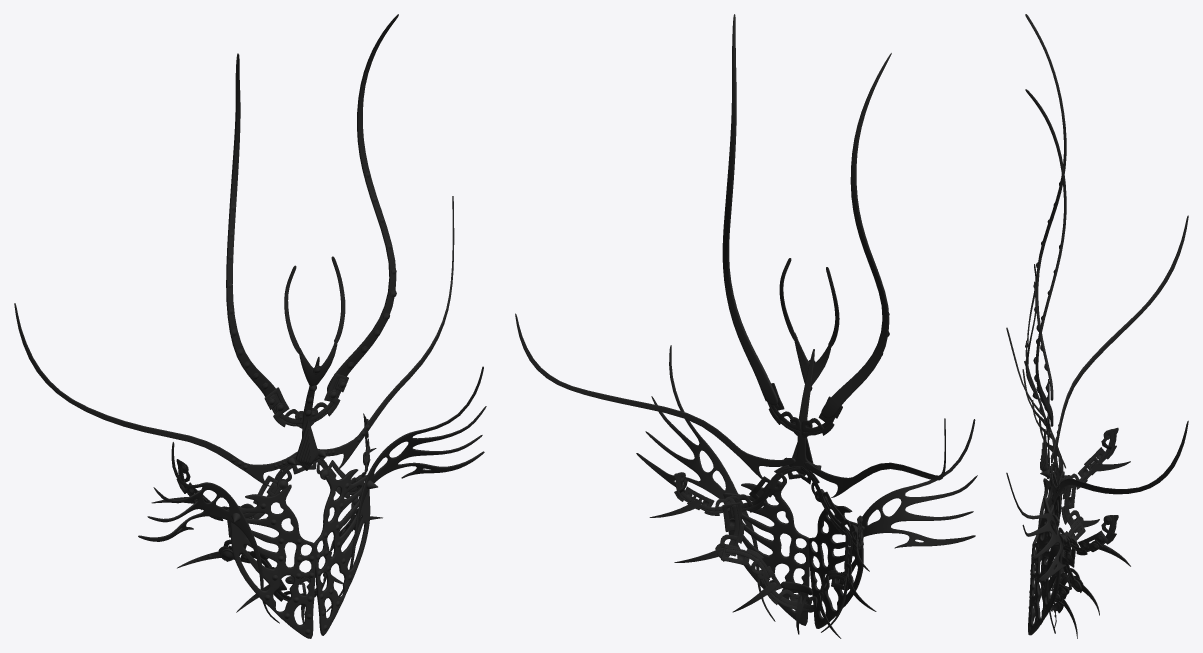
3 views of the same model, side by side, from view 1: azimuth 30°, elevation 25°; view 2: azimuth 150°, elevation 25°; view 3: azimuth 270°, elevation 25° (orthographic). The views are drawn at different scales.
Visible parts, largest first — view 1: Fates_mask_01_low; view 2: Fates_mask_01_low; view 3: Fates_mask_01_low.
Part boxes in pixels (x1,y1,x2,y2): Fates_mask_01_low: [14, 14, 486, 638]; Fates_mask_01_low: [515, 14, 977, 638]; Fates_mask_01_low: [1006, 14, 1188, 638].
Bounding box in the file's own units: 34.91 × 45.93 × 13.09.
Materials: 1 (1 with a texture image).
